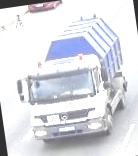truck: (9, 11, 135, 146)
